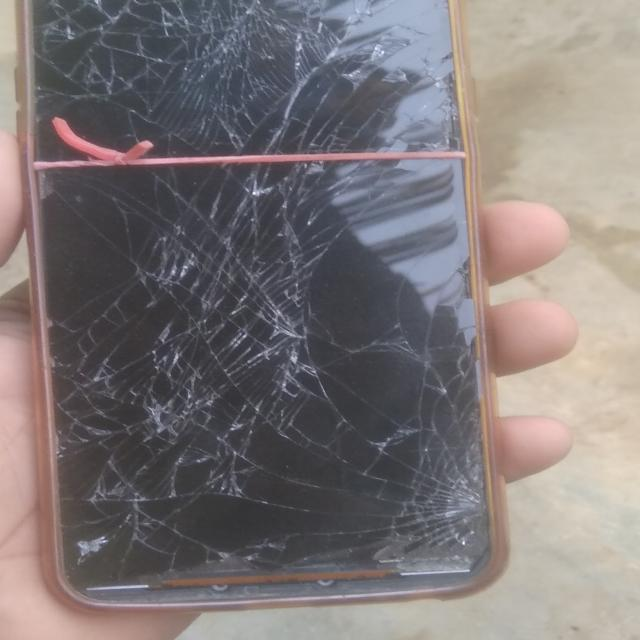Crack: (51, 177, 487, 594), (40, 4, 456, 148)
